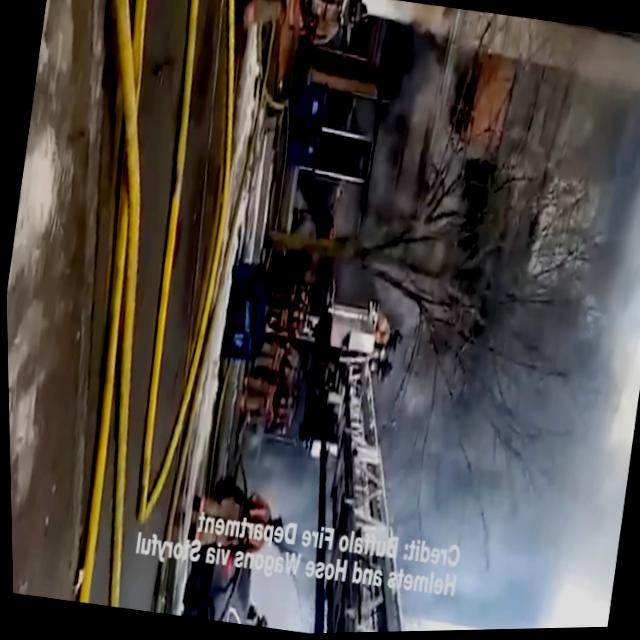Smoke: (353, 258, 640, 559)
